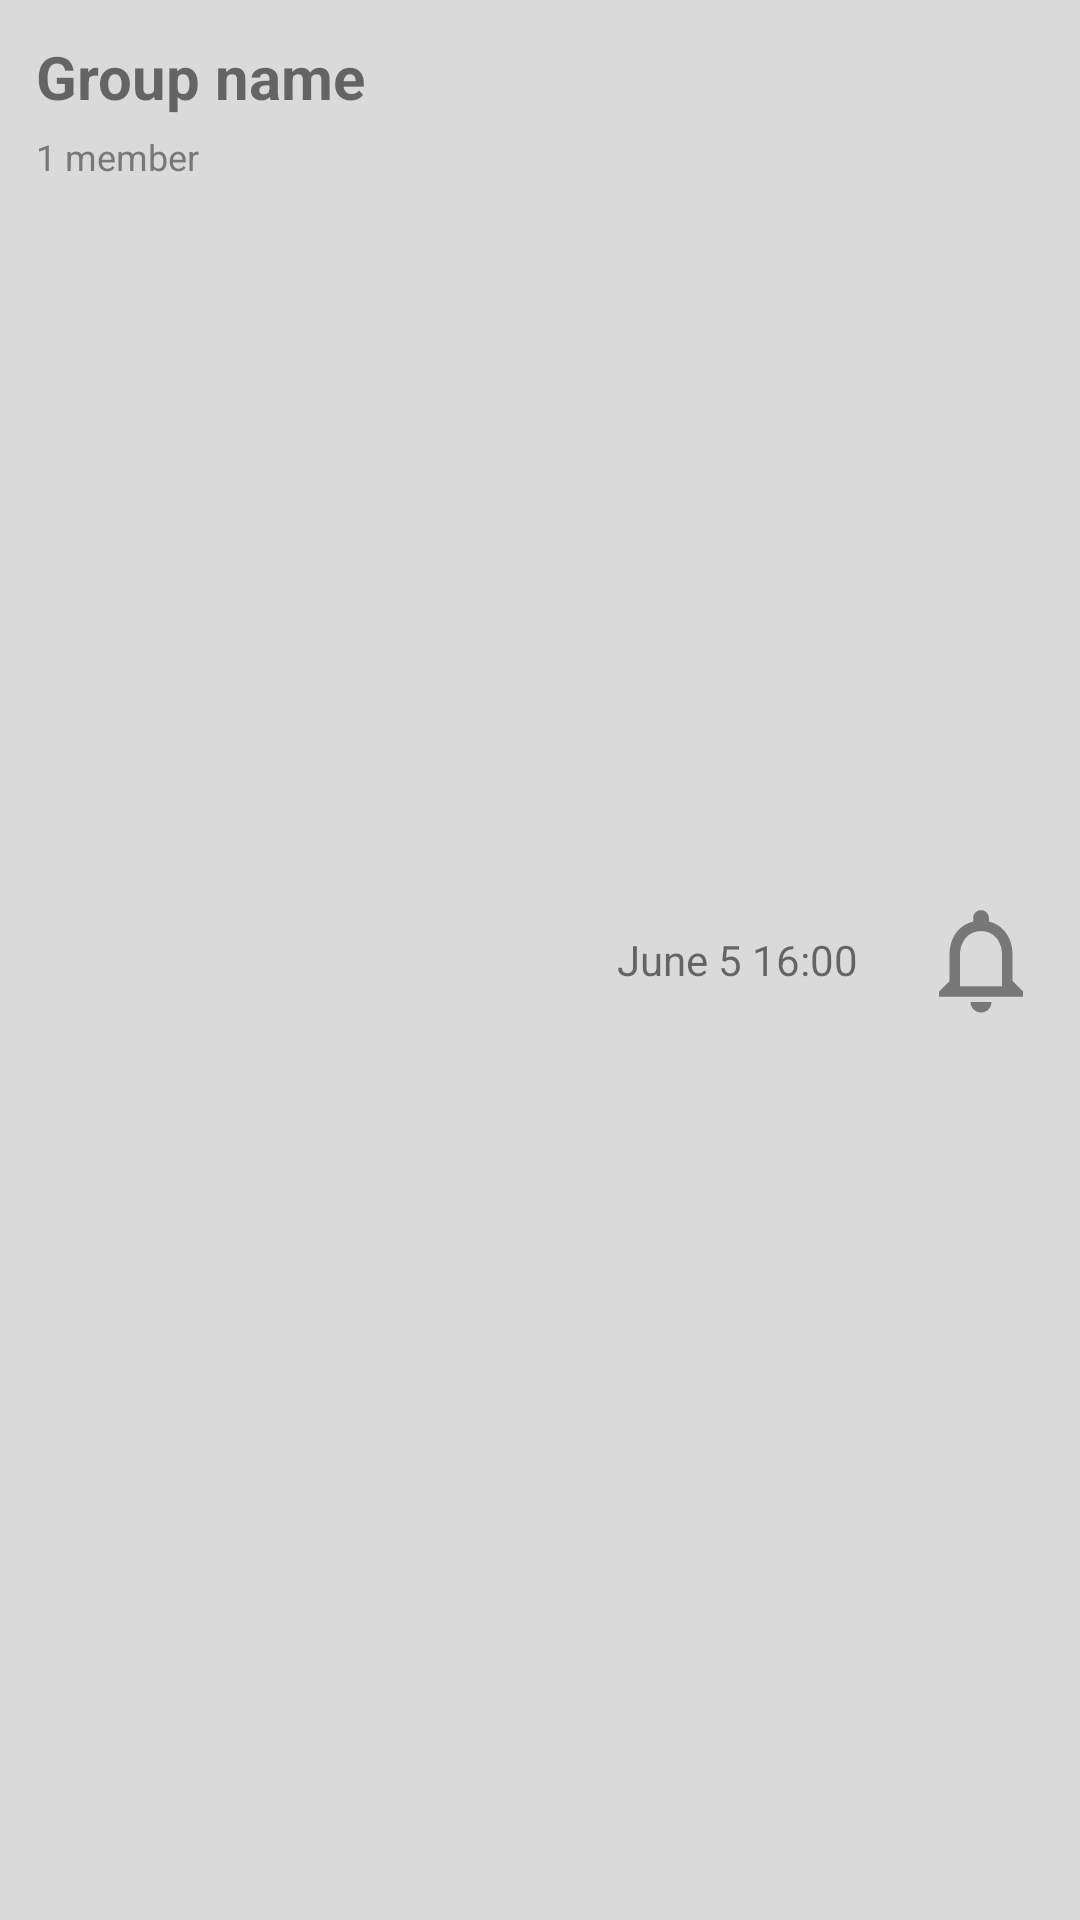

Icons on this 1080w x 1920h Android screen, each with its box as (x1, y1, x2, y2):
Group notification indicator: (939, 910, 1023, 1013)
